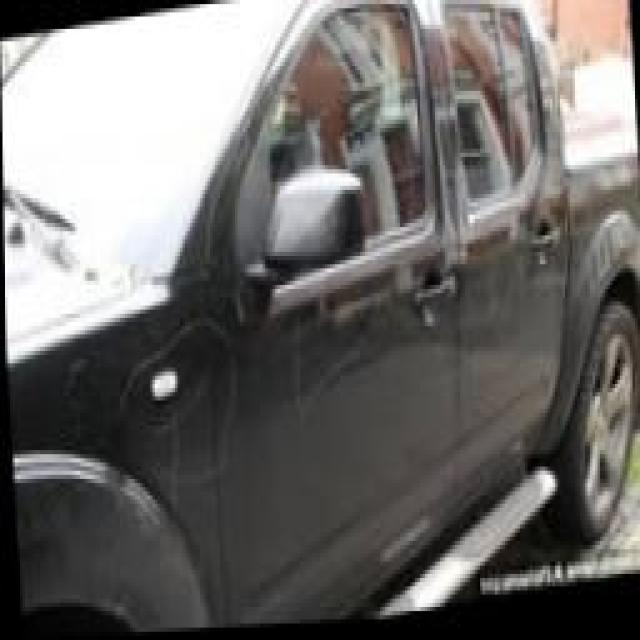Door: (272, 243, 407, 432)
Fender: (57, 323, 210, 498)
